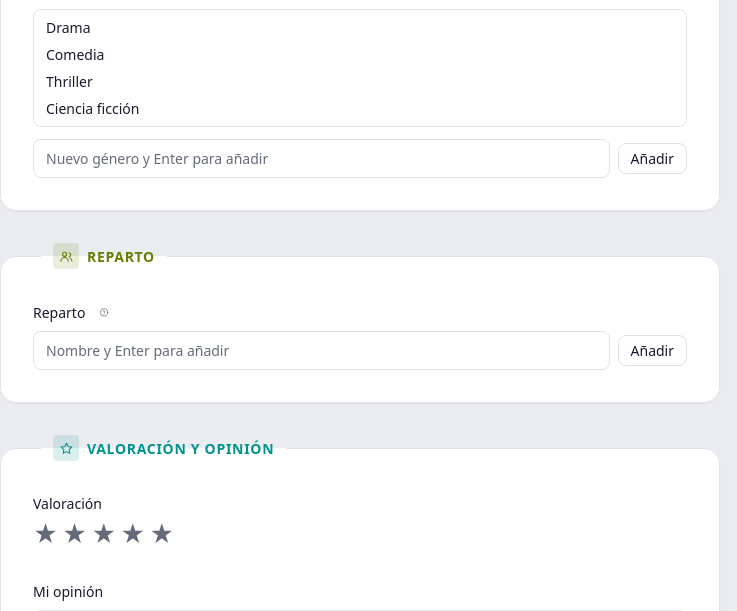
SeriesForm › añade miembro del reparto con Enter
(page scrolled)
Step 1. Type "Aaron Paul" into the field named "añadir miembro del reparto" → (321, 350), box [33, 331, 610, 370]
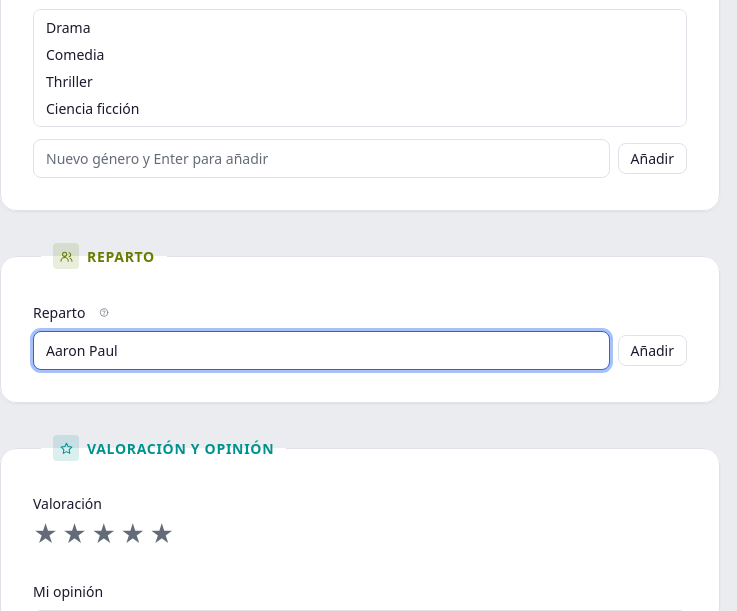
Step 2. Press Enter
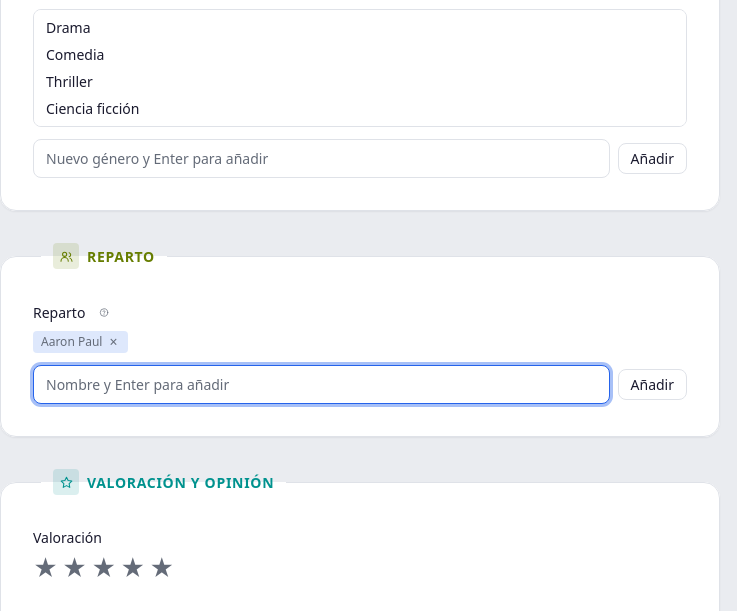
Result: the text "Aaron Paul" is shown at [41, 333, 102, 350]
Result: the field named "añadir miembro del reparto" is empty at [33, 365, 610, 404]
